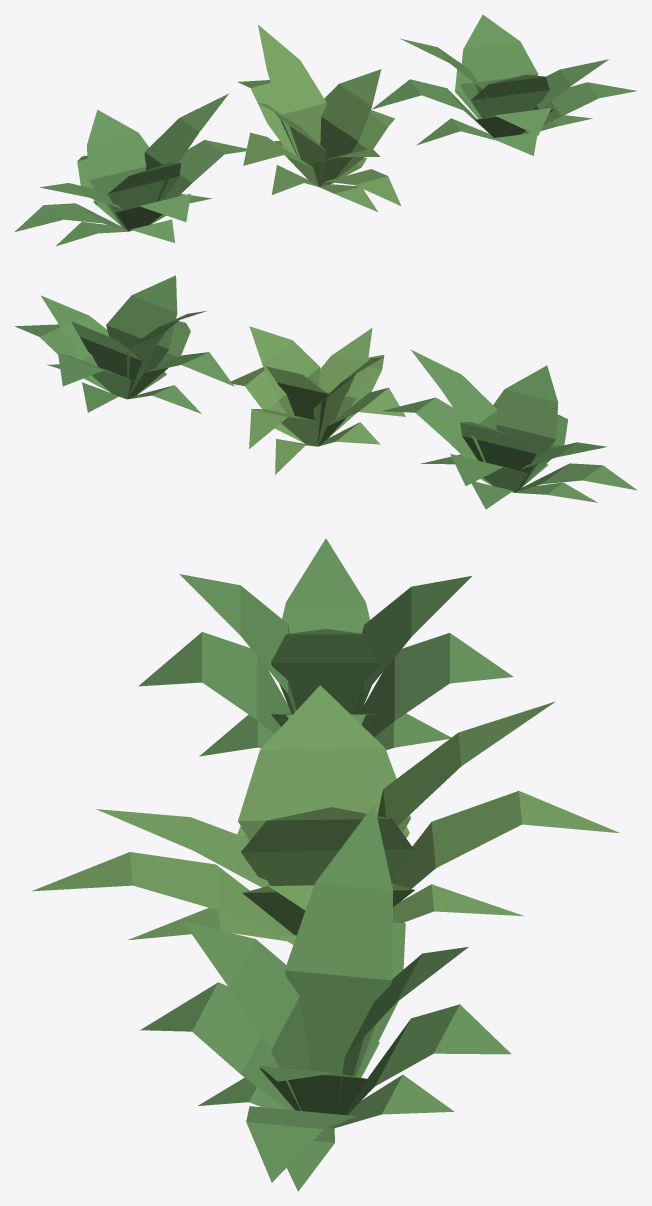
The model's file is veg_garden_hedge.glb.
3 renders of one model, top to bottom at view 1: azimuth 30°, elevation 25°; view 2: azimuth 150°, elevation 25°; view 3: azimuth 270°, elevation 25°, orthographic. The views are drawn at different scales.
Visible parts, largest first — view 1: clump_1, clump_0, clump_2; view 2: clump_0, clump_2, clump_1; view 3: clump_2, clump_1, clump_0.
Part boxes in pixels (box(x1,y1,x2,y2)): clump_1: box(238, 25, 400, 211); clump_0: box(15, 93, 251, 246); clump_2: box(371, 14, 636, 155); clump_0: box(383, 349, 637, 509); clump_2: box(15, 275, 234, 413); clump_1: box(231, 326, 405, 474); clump_2: box(140, 804, 511, 1191); clump_1: box(32, 685, 619, 944); clump_0: box(138, 538, 513, 756).
Bounding box in the file's own units: 1.59 × 0.2883 × 0.6616.
